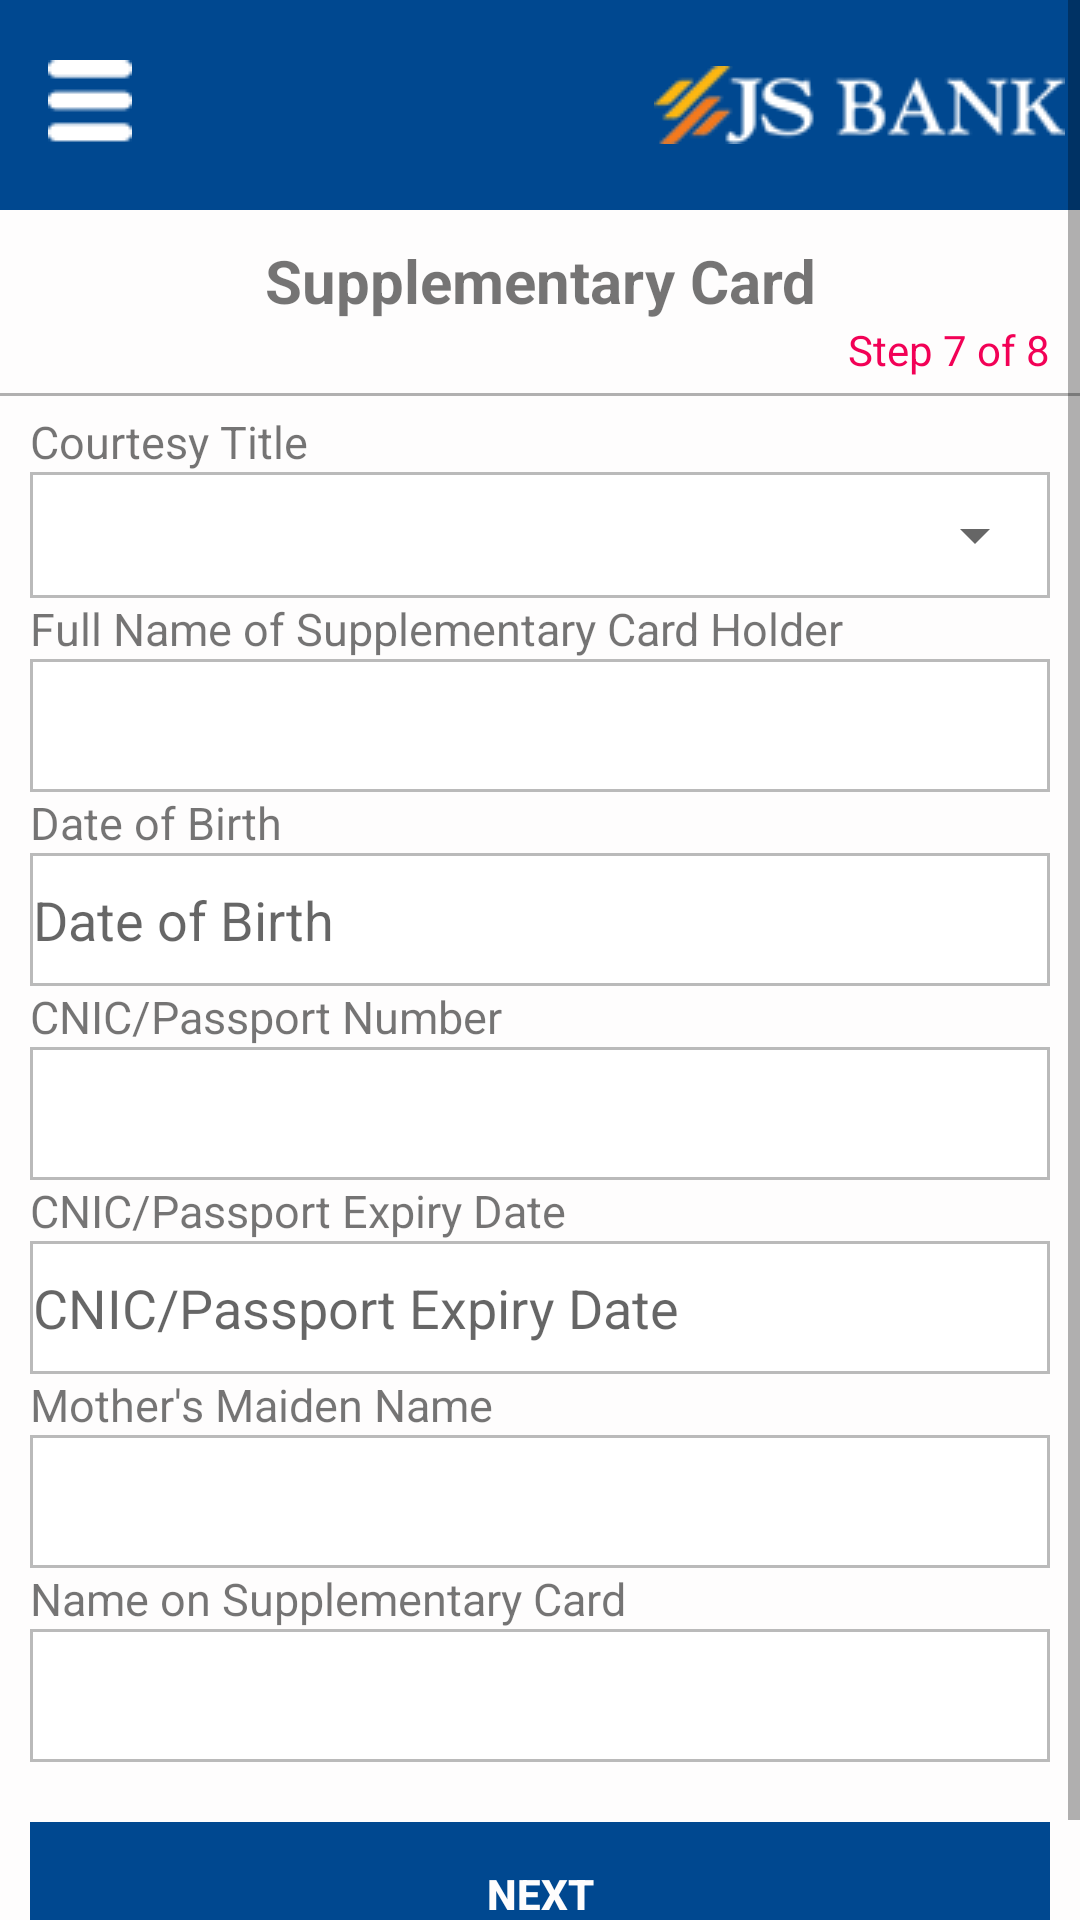

Icon bounding boxes for this 1080px×1920px phone screenshot, format (x1=x1, y1=y1, x2=x2, y2=y2):
menu: (x1=48, y1=60, x2=132, y2=142)
